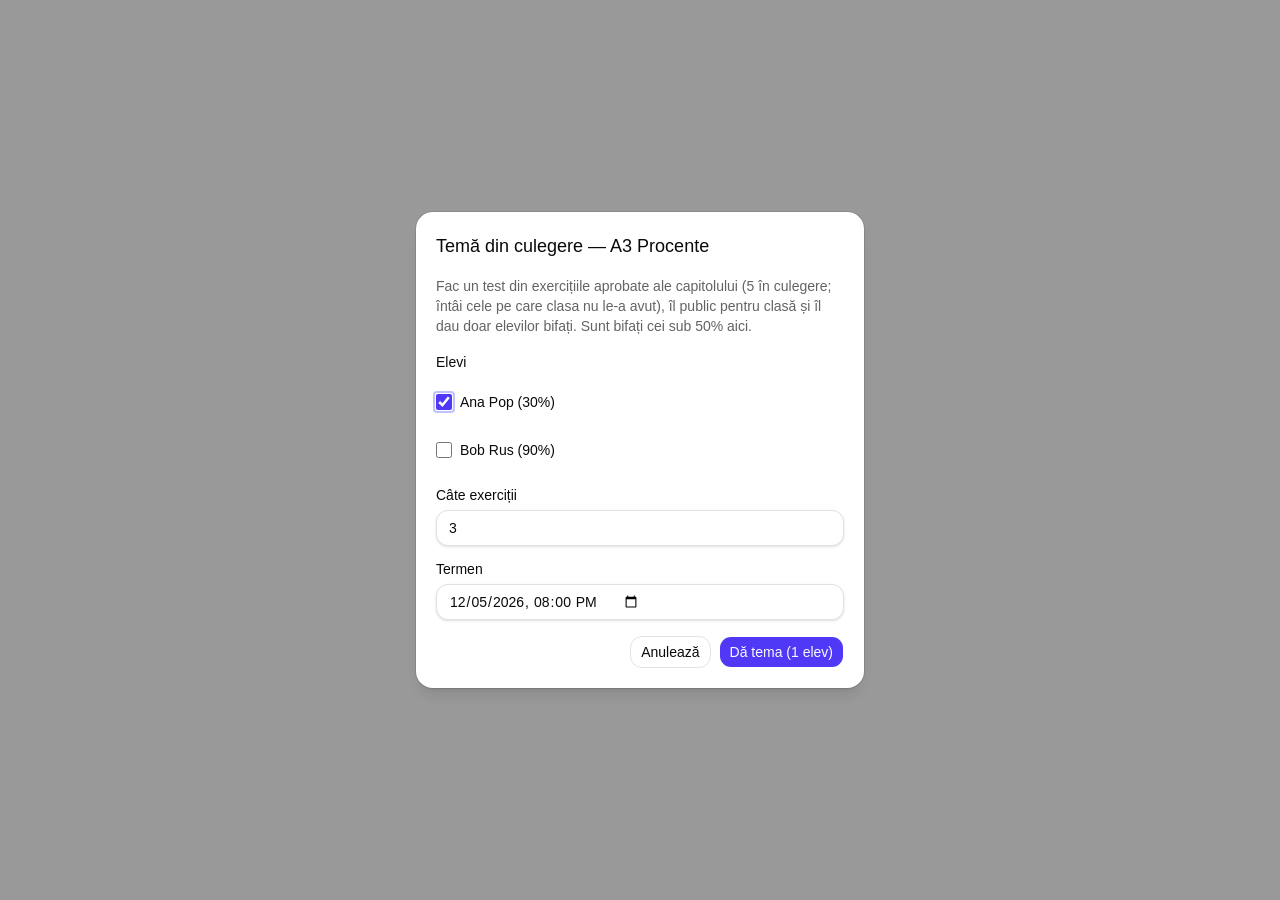
it: RecapCatchUpDialog › shows the server's refusal
Click the button "Dă tema (1 elev)" at (781, 652), box [718,636,844,668]
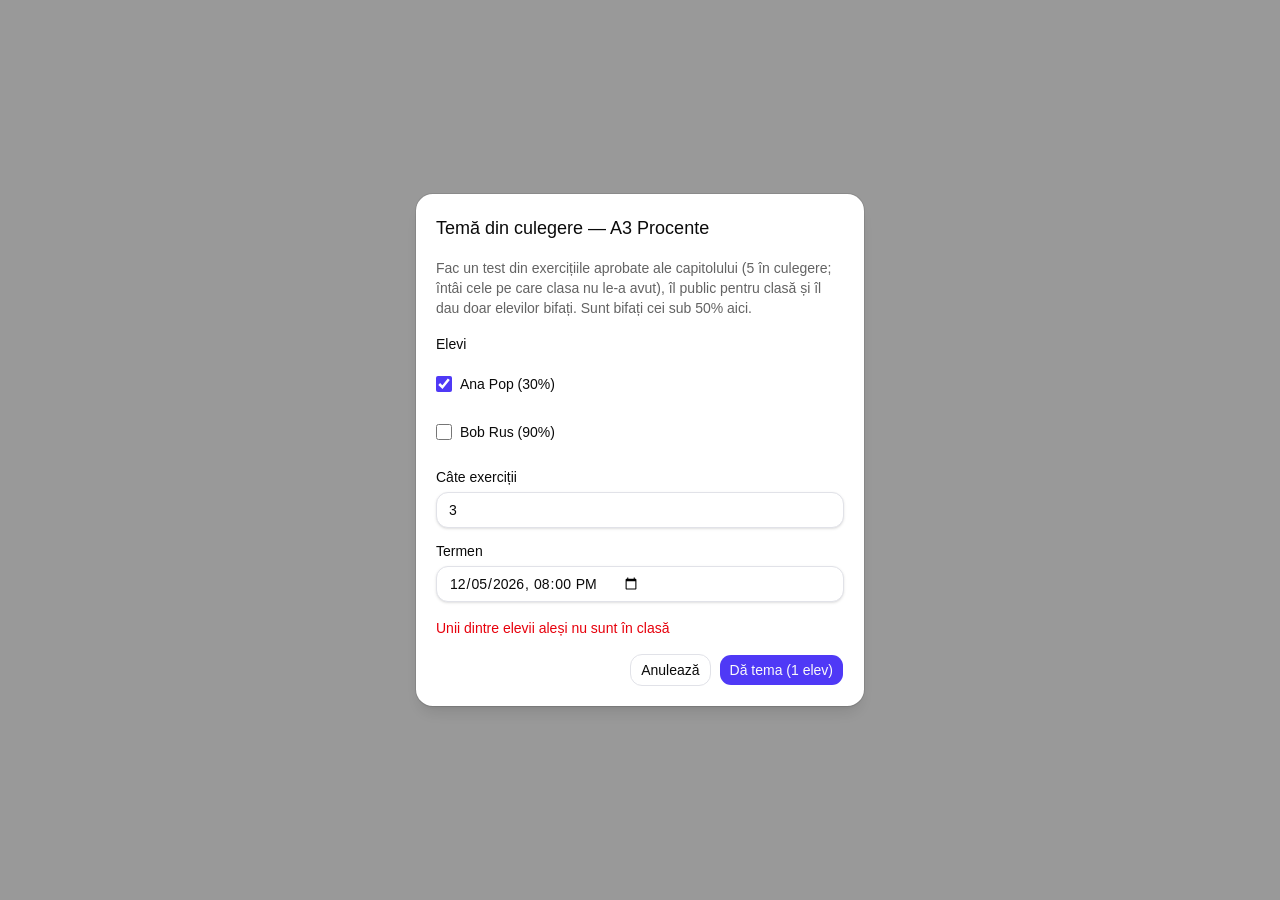
Result: the text "Unii dintre elevii aleși nu sunt în clasă" is shown at [436,620,670,636]
